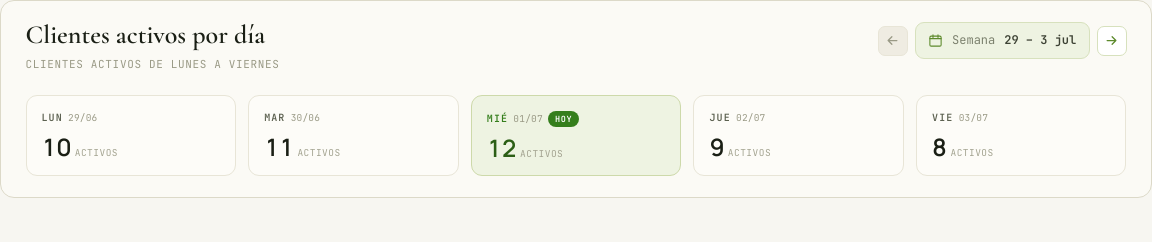
Test case: WeeklyCountsCard › with isAdmin › disables the next arrow on the last navigable week
Click the button named "Semana siguiente" at (1112, 41), box [1096,26,1126,56]
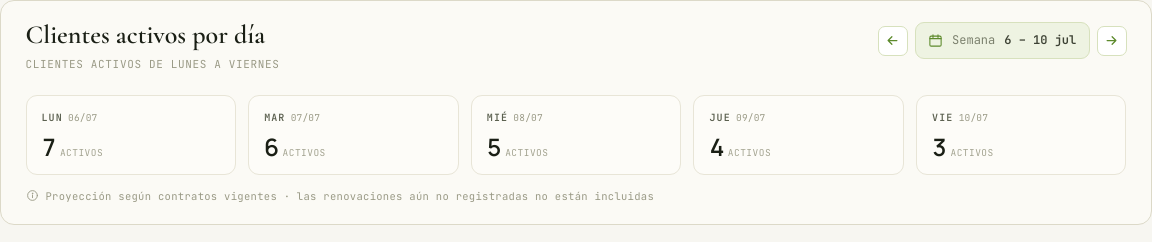
Click the button named "Semana siguiente" at (1112, 41), box [1096,26,1126,56]
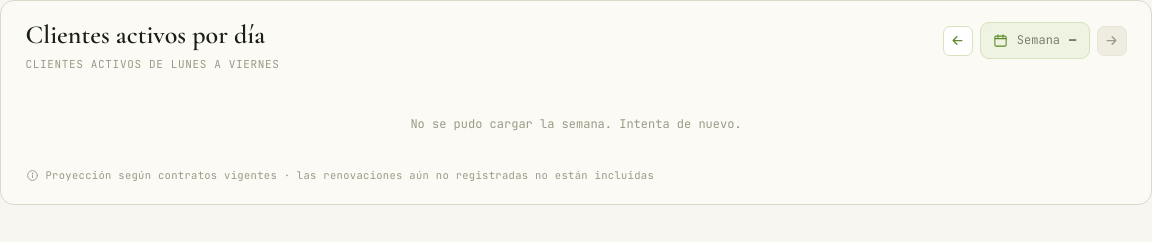
Result: the button named "Semana siguiente" is disabled at [1096,26,1126,56]
